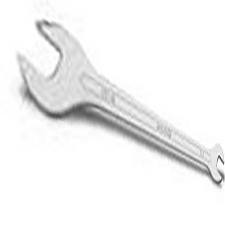Wrench: (19, 13, 225, 196)
